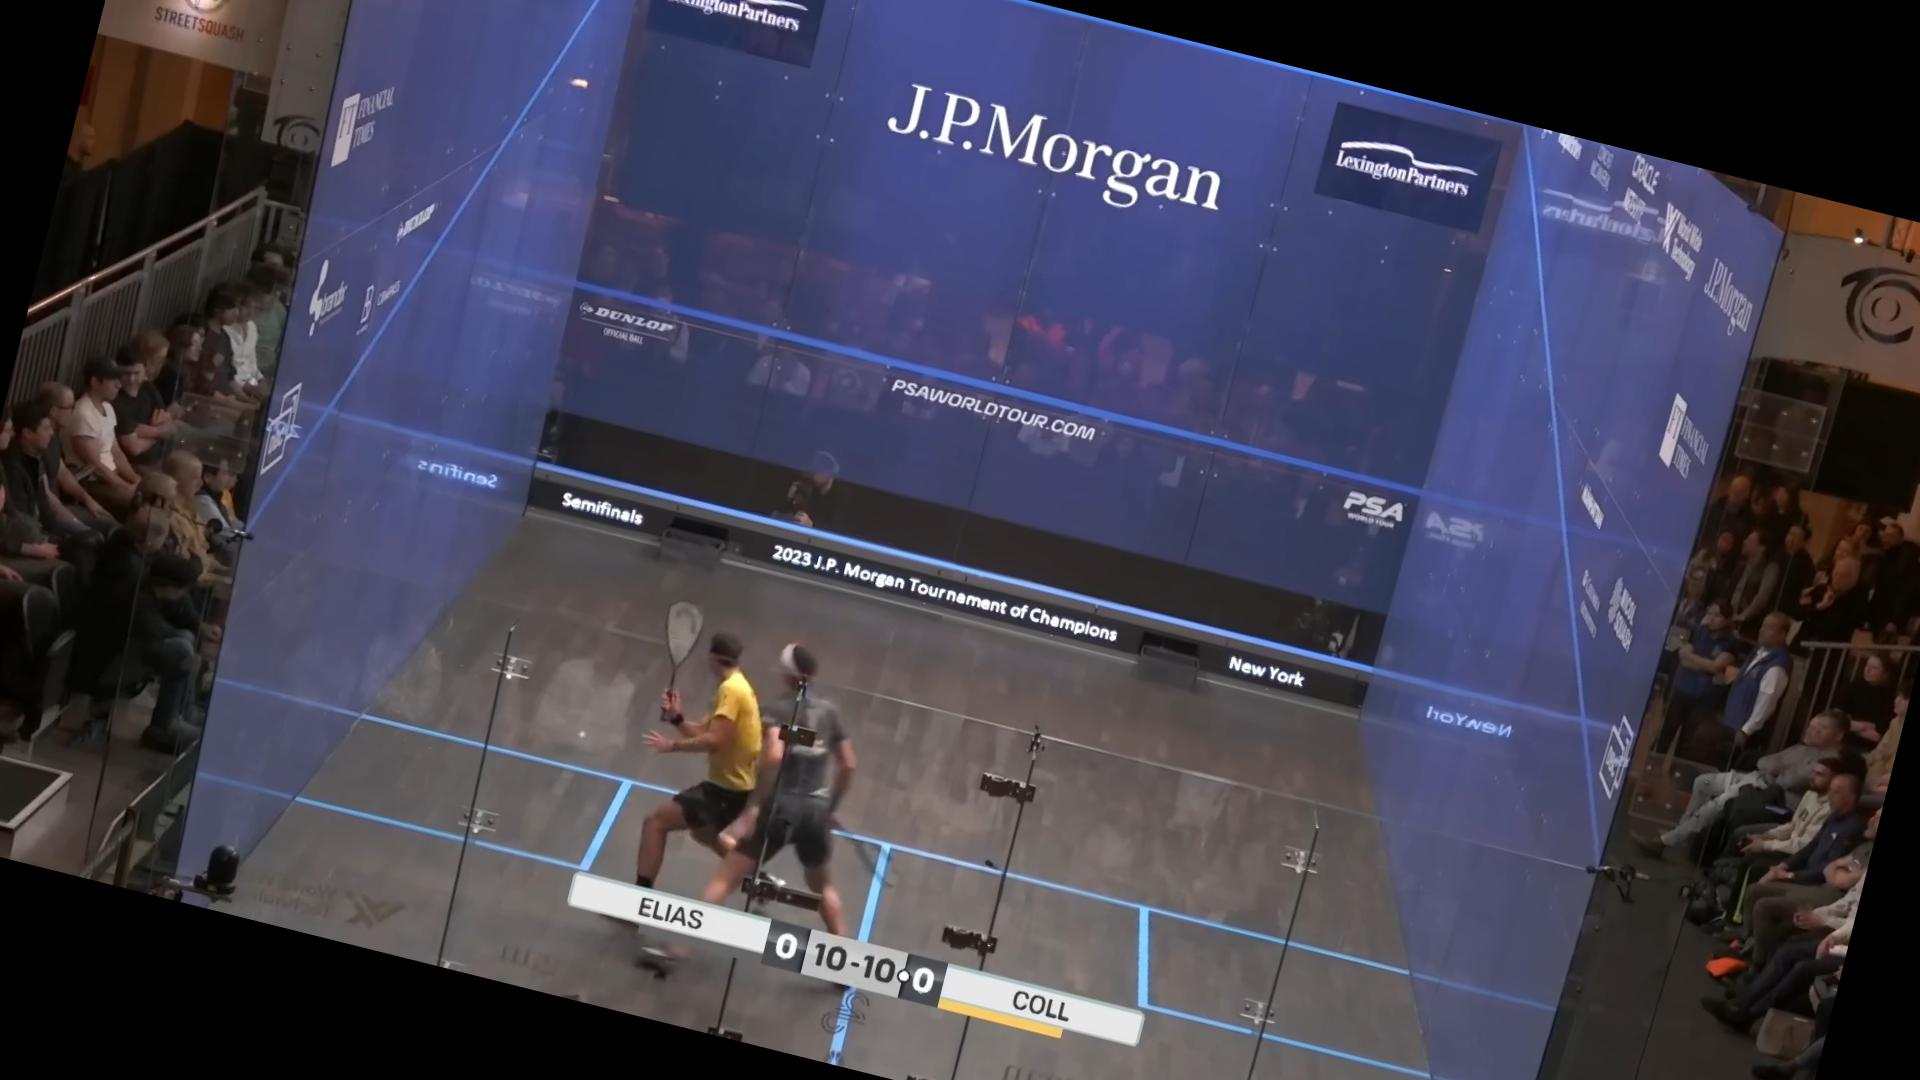Racket: (633, 585, 717, 732), (823, 818, 922, 899)
